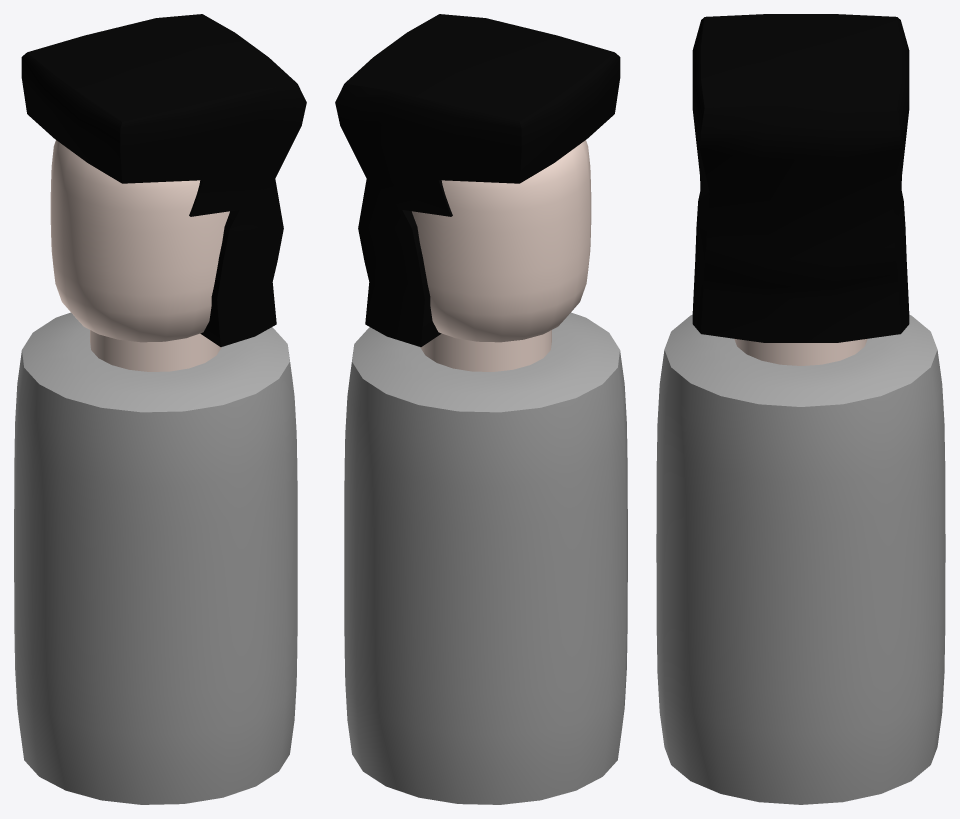
File: hair2.fbx
The picture shows the model from 3 angles, left to right: view 1: azimuth 30°, elevation 25°; view 2: azimuth 150°, elevation 25°; view 3: azimuth 270°, elevation 25°; orthographic projection.
Visible parts, largest first — view 1: pCylinder2, pCube1, pCylinder1, pCylinder3; view 2: pCylinder2, pCube1, pCylinder1, pCylinder3; view 3: pCylinder2, pCube1, pCylinder3.
Boxes of the visible parts, bbox=[...] form: pCylinder2: bbox=[14, 312, 297, 804]; pCube1: bbox=[21, 14, 306, 346]; pCylinder1: bbox=[50, 140, 229, 342]; pCylinder3: bbox=[90, 330, 221, 371]; pCylinder2: bbox=[344, 312, 627, 804]; pCube1: bbox=[335, 14, 620, 346]; pCylinder1: bbox=[412, 140, 591, 342]; pCylinder3: bbox=[420, 330, 551, 371]; pCylinder2: bbox=[656, 314, 945, 804]; pCube1: bbox=[692, 14, 909, 342]; pCylinder3: bbox=[734, 339, 867, 365].
Bounding box in the file's own units: 2.03 × 5.48 × 2.03.
